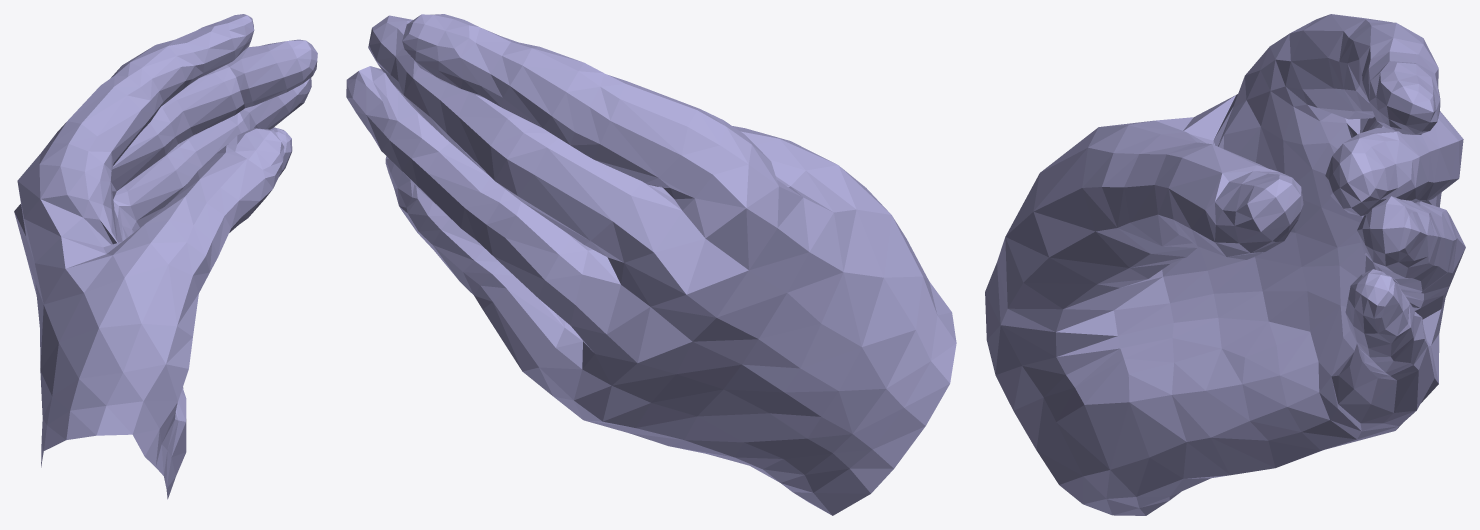
Rendered from frame_0006_source_000006_hand.glb.
3 renders of one model, left to right at view 1: azimuth 30°, elevation 25°; view 2: azimuth 150°, elevation 25°; view 3: azimuth 270°, elevation 25°, orthographic. The views are drawn at different scales.
Parts seen in each view (by area): view 1: world; view 2: world; view 3: world.
Part boxes in pixels (bbox=[...]): world: bbox=[14, 14, 317, 499]; world: bbox=[346, 14, 956, 515]; world: bbox=[985, 14, 1465, 515].
Size of the model in its own units: 0.1287 by 0.1301 by 0.0961.
